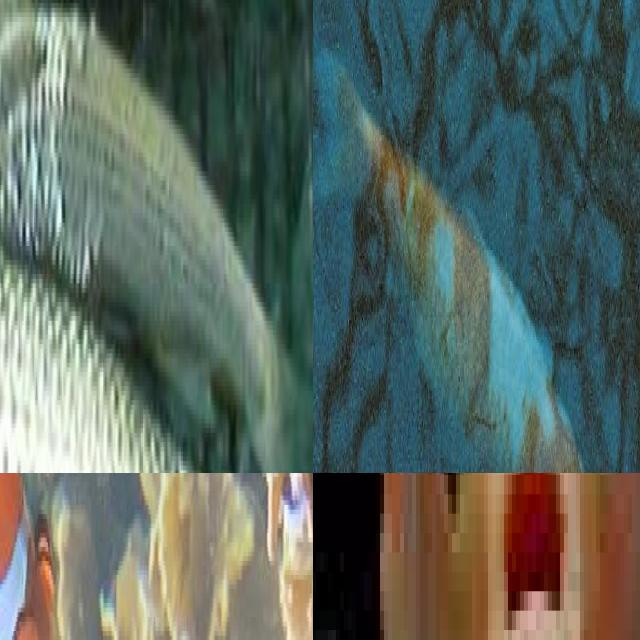fish: (0, 0, 313, 473), (400, 0, 640, 473), (356, 473, 640, 640)
